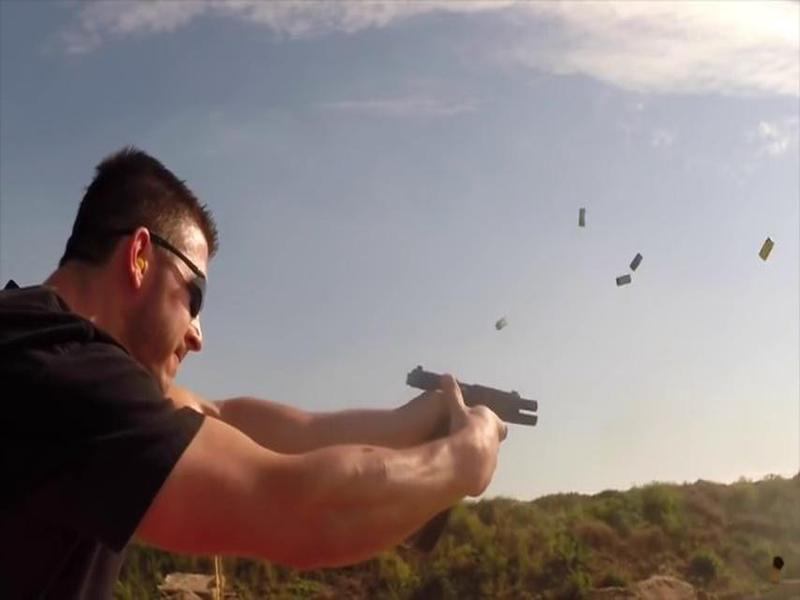Pistola: (391, 359, 565, 464)
